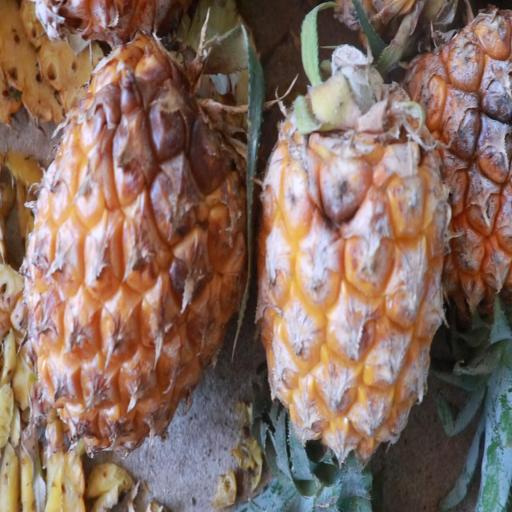Pineapple - v8 v1: (24, 7, 249, 451), (246, 39, 447, 512)
